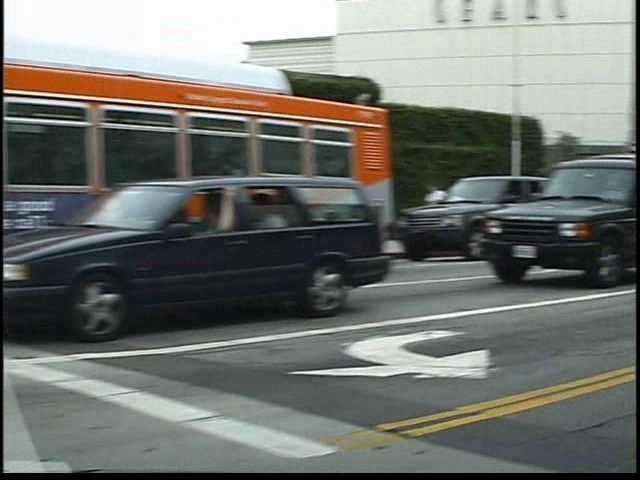person: (442, 178, 472, 245)
